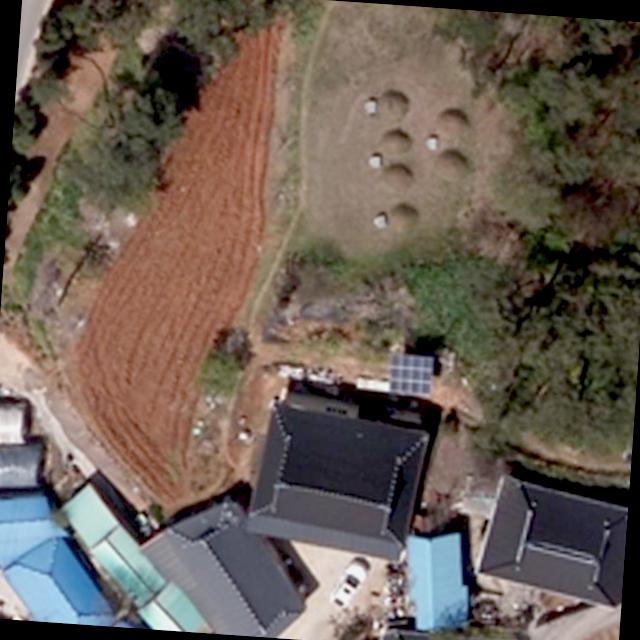solar: (386, 350, 437, 398)
